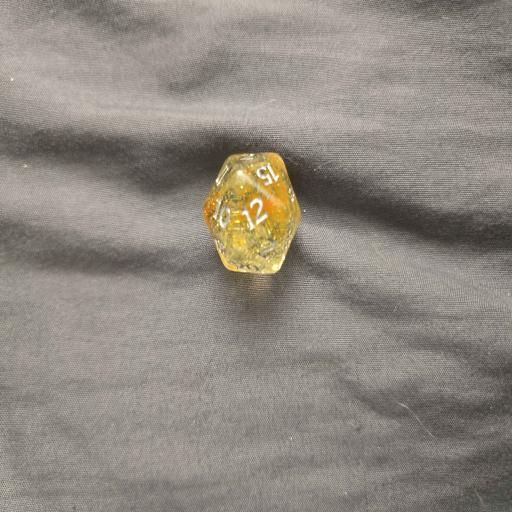twenty sided dice: (202, 152, 301, 274)
